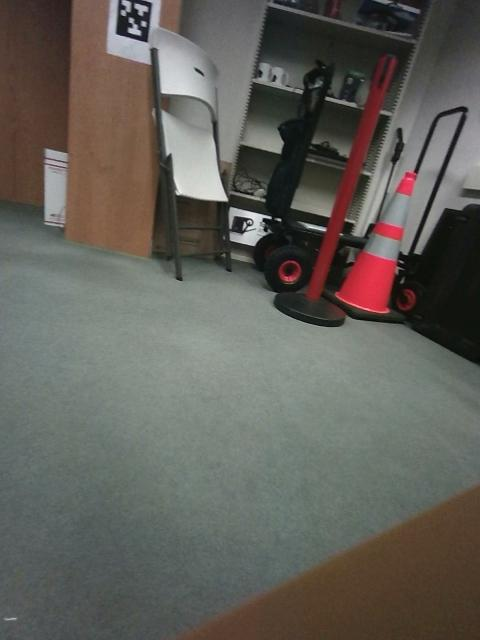block: (338, 392, 405, 472)
